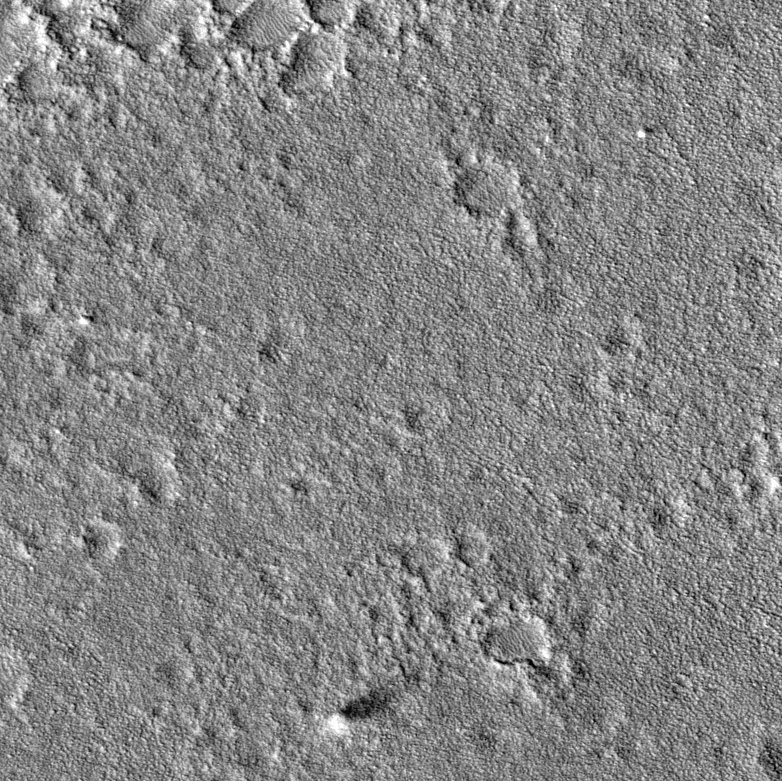dust_devil: (325, 671, 422, 738)
